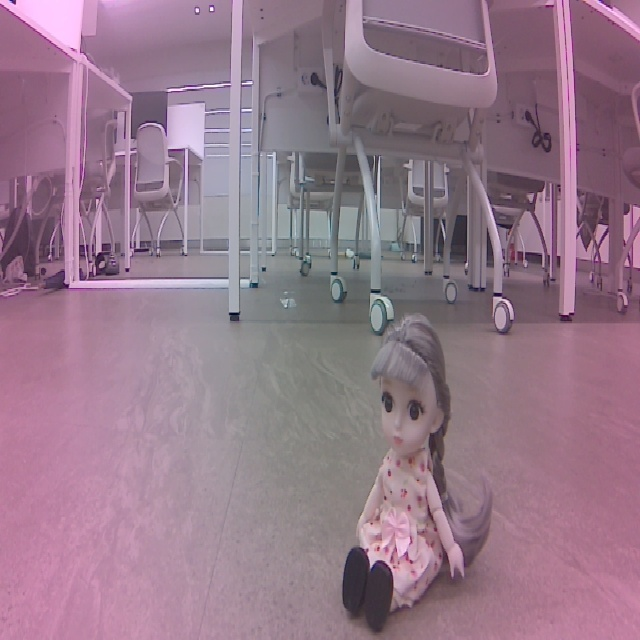장애물: (314, 302, 521, 635)
